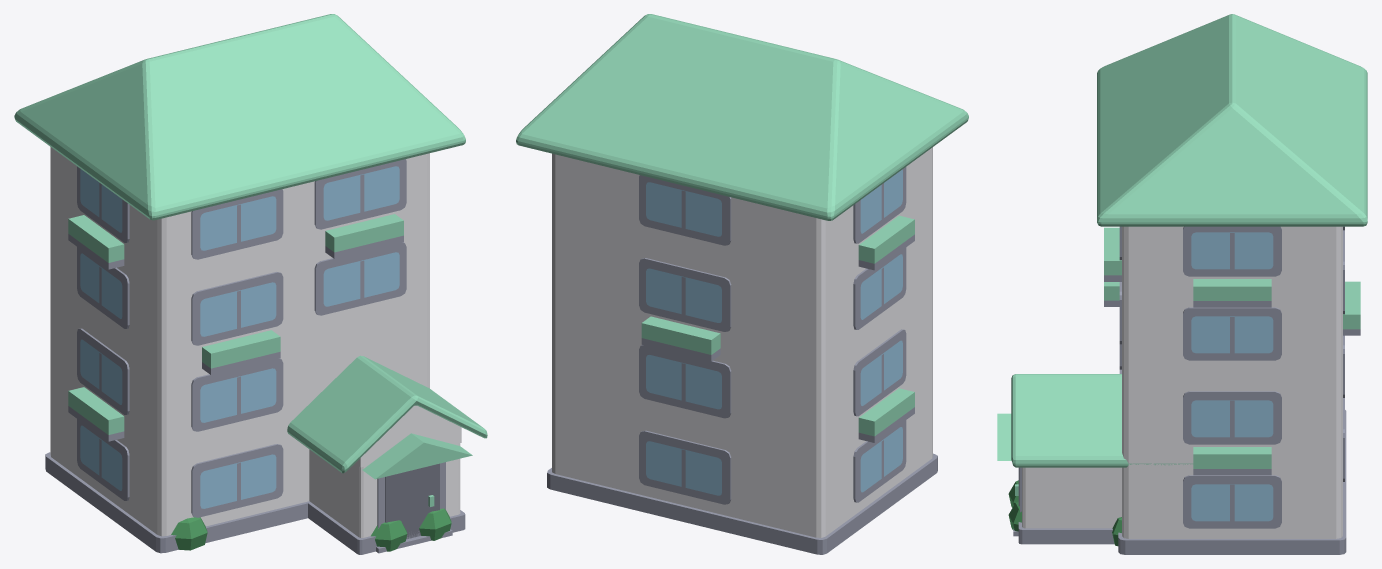
The model's file is house-1x1-4f-mansard-a.glb.
3 renders of one model, left to right at view 1: azimuth 30°, elevation 25°; view 2: azimuth 150°, elevation 25°; view 3: azimuth 270°, elevation 25°, orthographic. The views are drawn at different scales.
Parts seen in each view (by area): view 1: house-1x1-4f-mansard-a; view 2: house-1x1-4f-mansard-a; view 3: house-1x1-4f-mansard-a.
Part boxes in pixels (left/top/right/bottom): house-1x1-4f-mansard-a: left=14, top=14, right=487, bottom=554; house-1x1-4f-mansard-a: left=516, top=14, right=968, bottom=554; house-1x1-4f-mansard-a: left=997, top=14, right=1367, bottom=554.
Bounding box in the file's own units: 1 × 1.33 × 1.04.
1 material, 1 textured.
